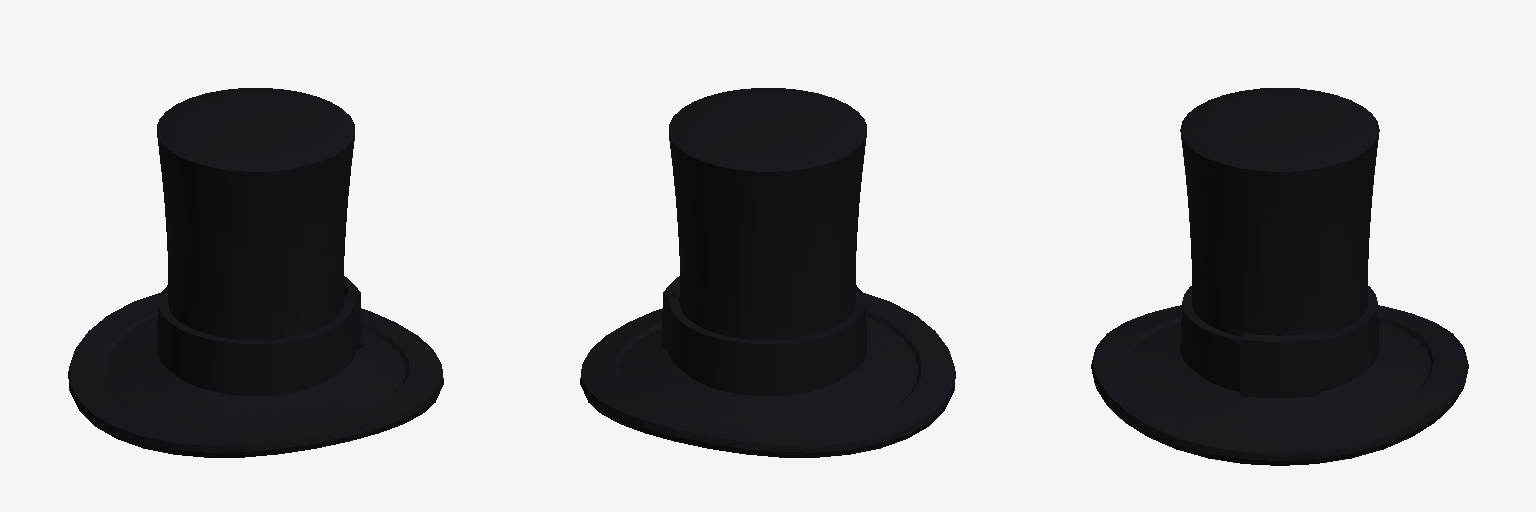
Rendered from cap1_low.obj.
The picture shows the model from 3 angles: view 1: azimuth 30°, elevation 25°; view 2: azimuth 150°, elevation 25°; view 3: azimuth 270°, elevation 25°; orthographic projection.
Parts seen in each view (by area): view 1: default; view 2: default; view 3: default.
Boxes of the visible parts, x1,y1,x2,y2 form: default: [68, 88, 443, 457]; default: [580, 88, 955, 457]; default: [1091, 88, 1468, 465].
Size of the model in its own units: 0.8068 by 0.6227 by 0.8102.